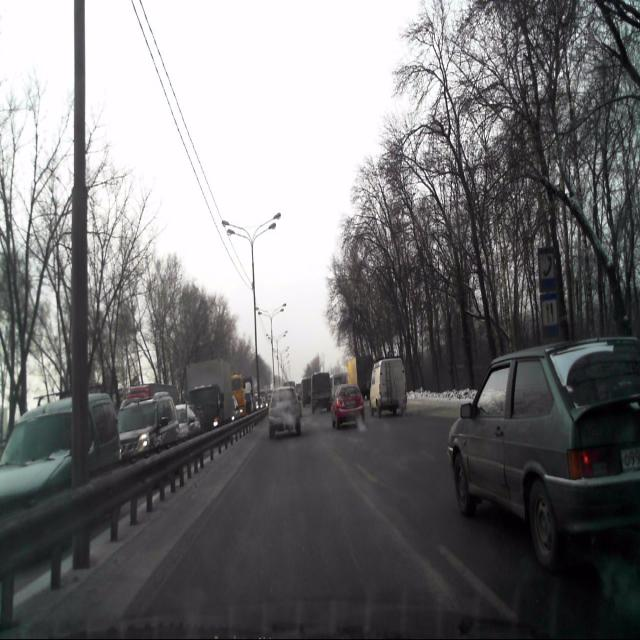road sign: (537, 246, 556, 292), (540, 293, 558, 338)
